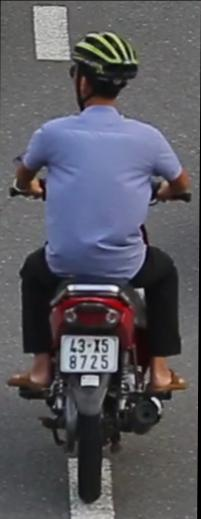LP: (58, 331, 120, 374)
helmet: (63, 25, 138, 128)
